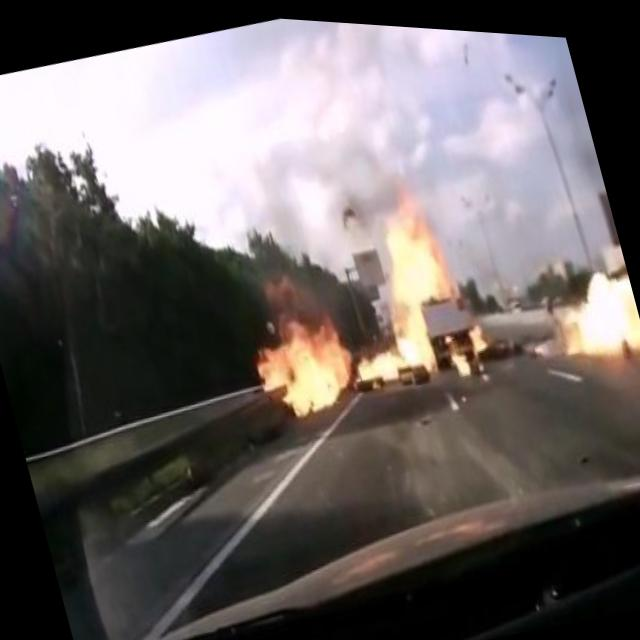fire: (310, 160, 505, 415), (230, 263, 365, 432), (543, 234, 640, 369)
